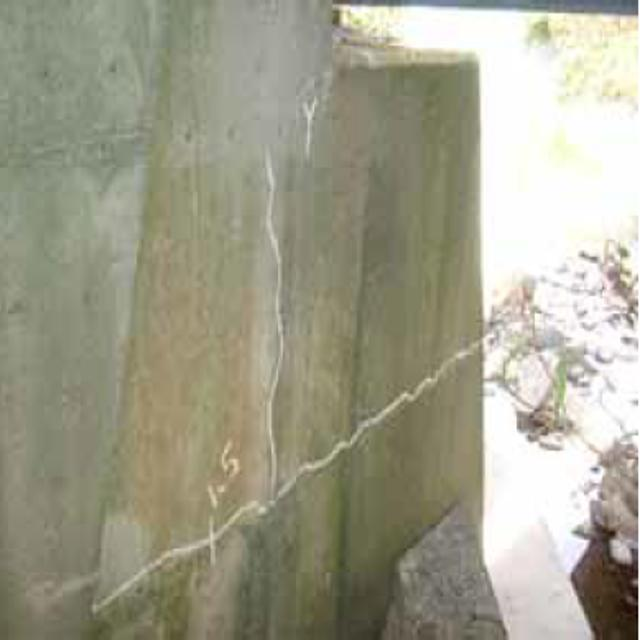crack: (303, 340, 478, 479), (95, 507, 262, 622), (266, 152, 291, 492)
